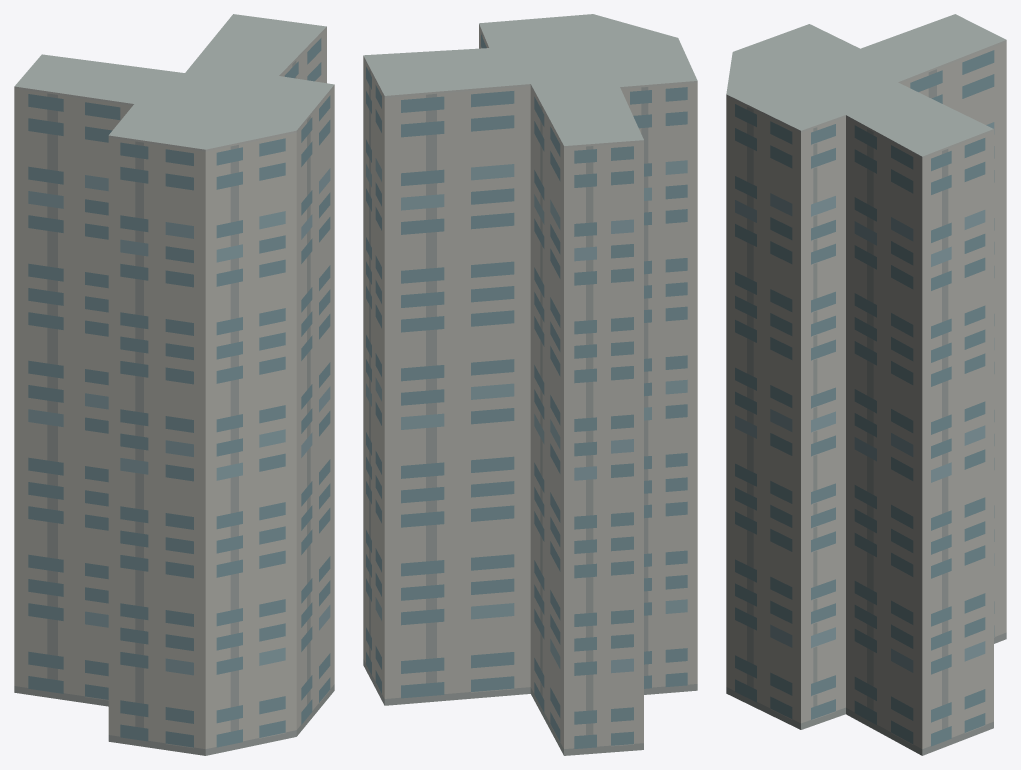
The model's file is residential-9faa195c-c0a6-49d6-b072-9839409987cd.glb.
The picture shows the model from 3 angles, left to right: view 1: azimuth 30°, elevation 25°; view 2: azimuth 150°, elevation 25°; view 3: azimuth 270°, elevation 25°; orthographic projection.
Visible parts, largest first — view 1: residential-9faa195c-c0a6-49d6-b072-9839409987cd.tmp; view 2: residential-9faa195c-c0a6-49d6-b072-9839409987cd.tmp; view 3: residential-9faa195c-c0a6-49d6-b072-9839409987cd.tmp.
Part boxes in pixels (box(x1,y1,x2,y2)): residential-9faa195c-c0a6-49d6-b072-9839409987cd.tmp: box(14, 14, 334, 755); residential-9faa195c-c0a6-49d6-b072-9839409987cd.tmp: box(363, 14, 697, 755); residential-9faa195c-c0a6-49d6-b072-9839409987cd.tmp: box(726, 14, 1006, 755).
Size of the model in its own units: 36.78 by 72 by 30.53.
